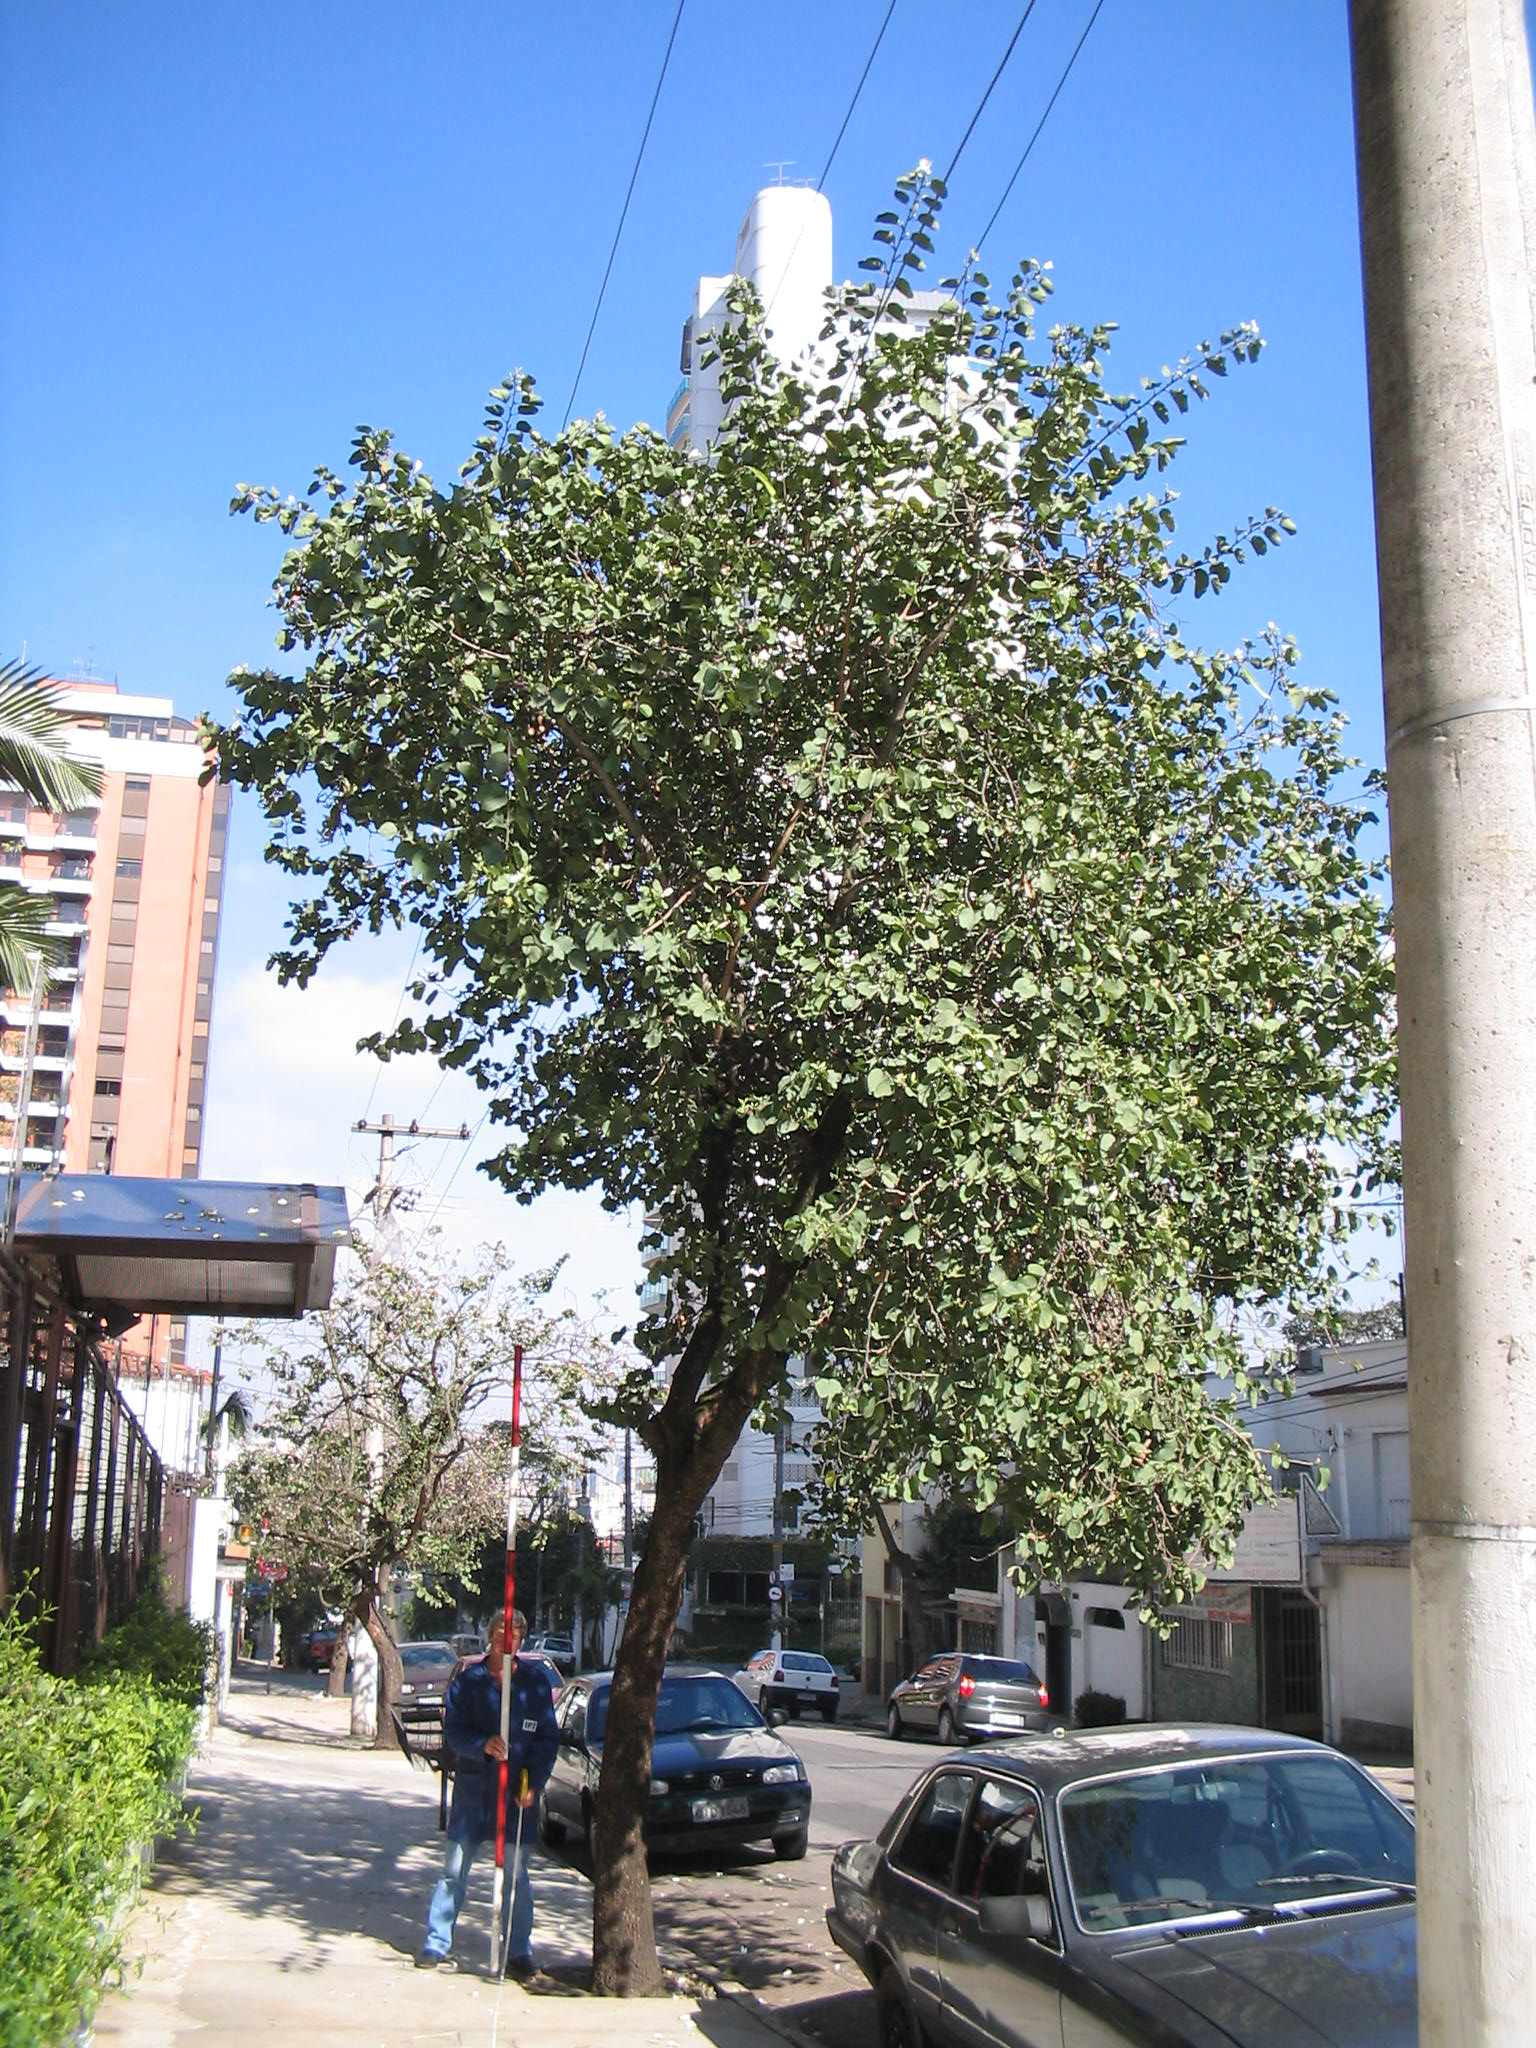crown: (198, 161, 1396, 1650)
stem: (560, 1447, 766, 1996)
stick: (461, 1345, 545, 1975)
tree: (189, 153, 1396, 2003)
